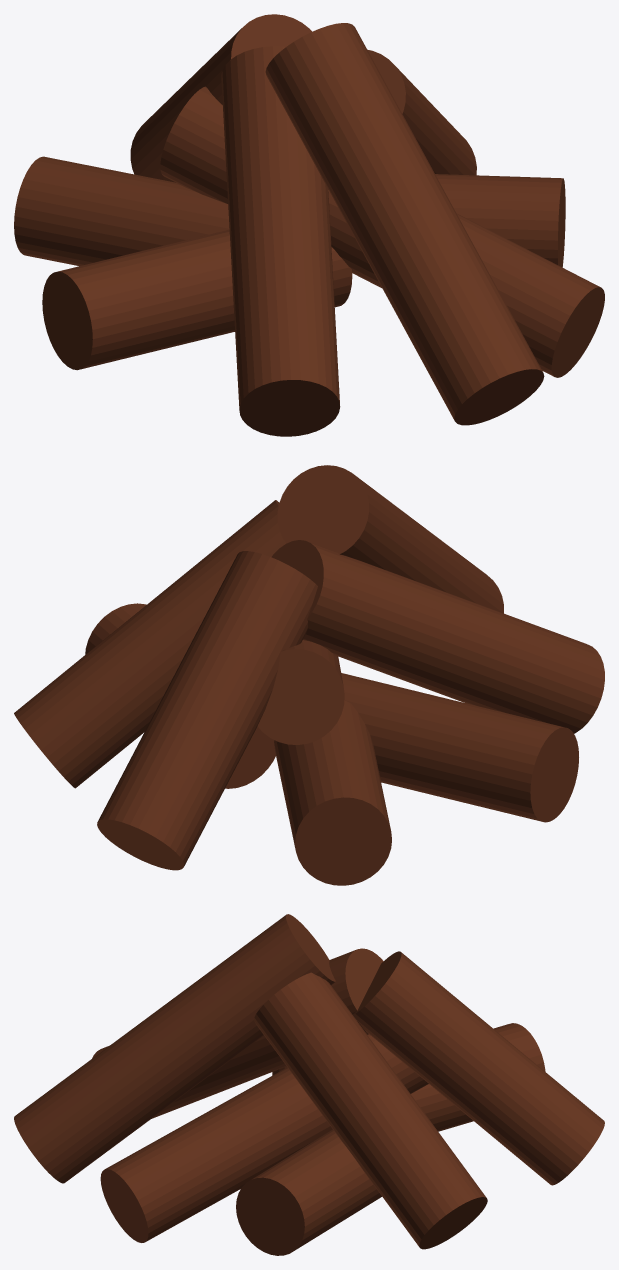
Rendered from campfire 1.fbx.
The picture shows the model from 3 angles, top to bottom: view 1: azimuth 30°, elevation 25°; view 2: azimuth 150°, elevation 25°; view 3: azimuth 270°, elevation 25°; orthographic projection. The views are drawn at different scales.
Visible parts, largest first — view 1: Cylinder.005, Cylinder.002, Cylinder, Cylinder.004, Cylinder.006, Cylinder.001, Cylinder.007, Cylinder.003; view 2: Cylinder.007, Cylinder.002, Cylinder.003, Cylinder, Cylinder.006, Cylinder.005, Cylinder.004, Cylinder.001; view 3: Cylinder.005, Cylinder.003, Cylinder.007, Cylinder.004, Cylinder.001, Cylinder.002, Cylinder.006.
Part boxes in pixels (bbox=[...]): Cylinder.005: bbox=[265, 23, 544, 425]; Cylinder.002: bbox=[221, 46, 340, 436]; Cylinder: bbox=[42, 229, 352, 370]; Cylinder.004: bbox=[160, 86, 604, 377]; Cylinder.006: bbox=[14, 156, 229, 266]; Cylinder.001: bbox=[435, 174, 565, 267]; Cylinder.007: bbox=[130, 14, 311, 182]; Cylinder.003: bbox=[367, 49, 476, 175]; Cylinder.007: bbox=[97, 551, 317, 870]; Cylinder.002: bbox=[271, 540, 604, 733]; Cylinder.003: bbox=[14, 500, 286, 788]; Cylinder: bbox=[341, 673, 578, 822]; Cylinder.006: bbox=[274, 700, 391, 885]; Cylinder.005: bbox=[277, 465, 503, 613]; Cylinder.004: bbox=[257, 640, 344, 744]; Cylinder.001: bbox=[85, 603, 275, 788]; Cylinder.005: bbox=[14, 914, 335, 1183]; Cylinder.003: bbox=[254, 972, 487, 1249]; Cylinder.007: bbox=[353, 951, 604, 1185]; Cylinder.004: bbox=[100, 1034, 428, 1242]; Cylinder.001: bbox=[236, 1129, 381, 1255]; Cylinder.002: bbox=[92, 948, 383, 1118]; Cylinder.006: bbox=[411, 1023, 545, 1131].
Size of the model in its own units: 338 by 208 by 424.
